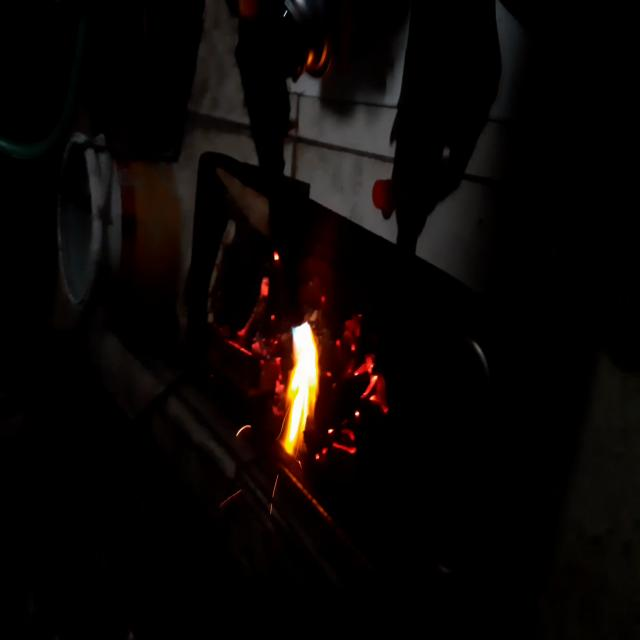Fire: (272, 292, 338, 456), (344, 317, 398, 449)
